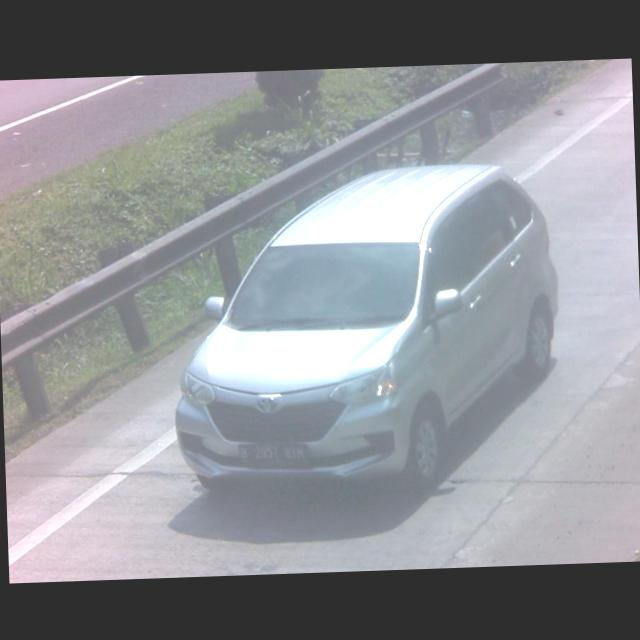plate: (230, 435, 310, 473)
